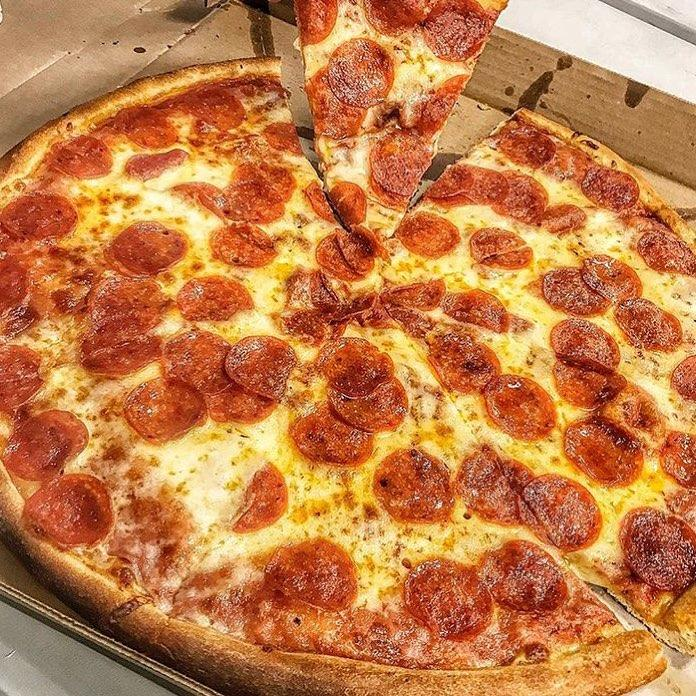Pepperoni: (254, 535, 360, 628), (475, 537, 569, 620), (14, 476, 119, 550), (614, 509, 696, 598), (514, 474, 609, 544), (404, 549, 483, 629), (210, 160, 305, 221), (487, 369, 556, 445), (275, 275, 348, 346), (7, 412, 88, 475), (82, 267, 165, 328), (452, 442, 524, 510), (427, 327, 500, 394), (535, 250, 604, 320), (369, 455, 453, 512), (324, 34, 391, 102), (4, 184, 78, 245), (299, 406, 367, 472), (320, 332, 385, 400), (104, 104, 187, 156), (331, 377, 405, 435), (422, 0, 497, 57), (574, 409, 641, 472), (229, 469, 288, 540), (122, 380, 199, 434), (410, 68, 470, 137), (380, 209, 464, 257), (369, 125, 431, 189), (114, 222, 183, 278), (87, 324, 164, 374), (447, 282, 519, 332), (309, 70, 360, 139), (642, 224, 696, 288), (229, 339, 299, 388), (317, 170, 376, 228), (313, 220, 377, 272), (187, 80, 251, 130), (209, 372, 265, 427), (614, 305, 687, 347), (657, 427, 696, 504), (552, 329, 624, 370), (204, 224, 275, 265), (169, 330, 233, 375), (0, 341, 42, 407), (180, 280, 245, 322), (439, 167, 499, 212), (584, 260, 644, 305), (394, 273, 443, 324), (44, 137, 120, 169), (469, 229, 527, 268), (497, 124, 545, 168), (560, 361, 624, 394), (499, 180, 551, 213), (295, 0, 332, 44), (584, 169, 632, 202), (0, 255, 30, 302), (674, 350, 696, 408), (354, 288, 383, 329)
Pizza: (11, 4, 696, 696)
